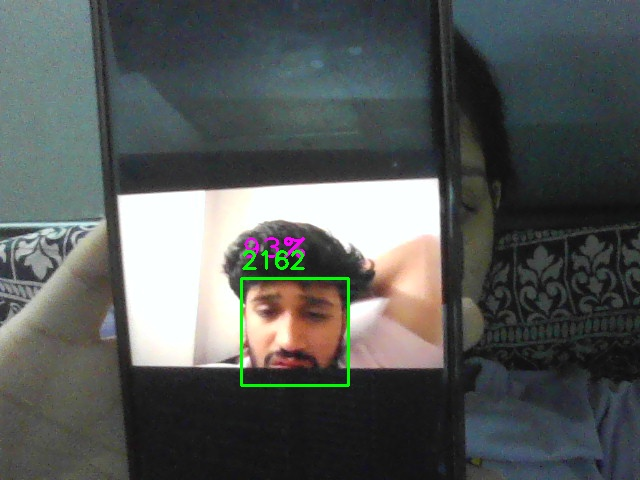fake: (241, 278, 349, 386)
